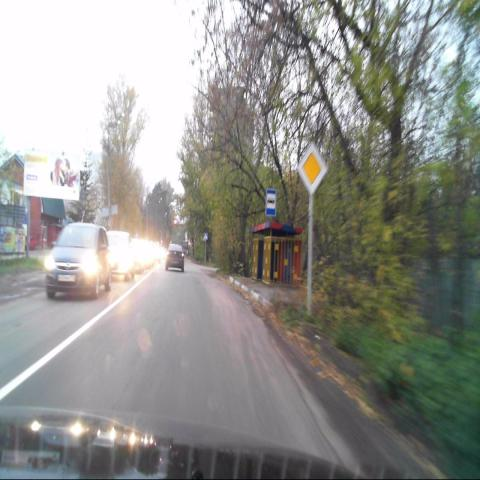2_1: (297, 143, 327, 196)
5_16: (266, 188, 276, 217)
